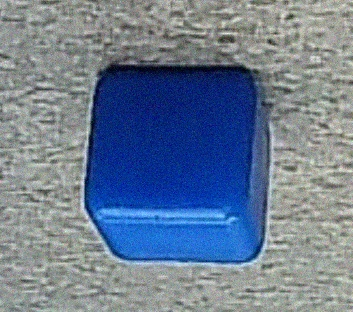blue_cube: (74, 57, 280, 272)
